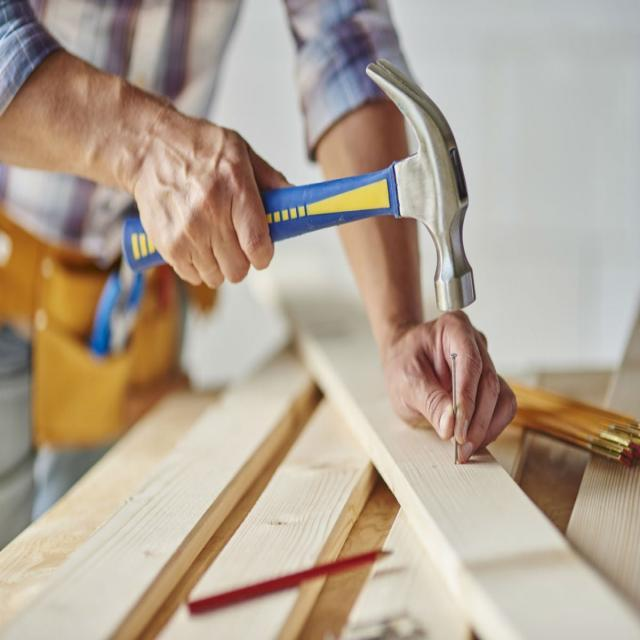hammer: (115, 45, 486, 315)
